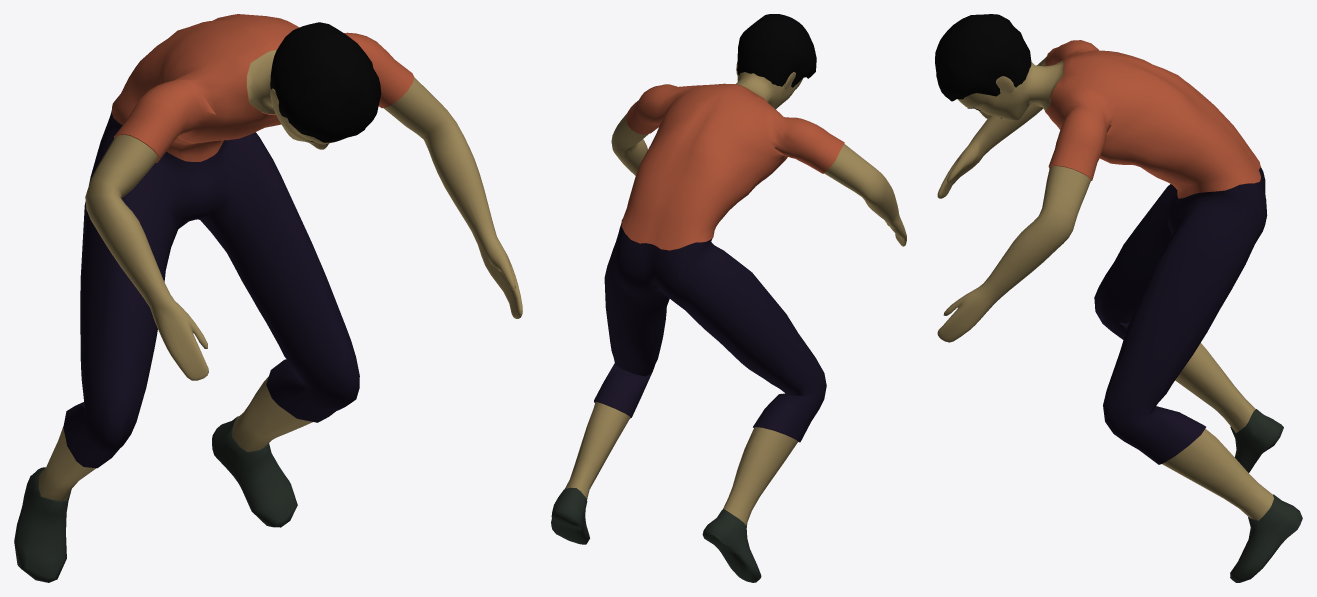
File: Male_Landing.glb
The picture shows the model from 3 angles, left to right: view 1: azimuth 30°, elevation 25°; view 2: azimuth 150°, elevation 25°; view 3: azimuth 270°, elevation 25°; orthographic projection. The views are drawn at different scales.
Parts seen in each view (by area): view 1: Male-Landing; view 2: Male-Landing; view 3: Male-Landing.
Part boxes in pixels (<box>): Male-Landing: <box>14,14,522,582</box>; Male-Landing: <box>551,14,906,582</box>; Male-Landing: <box>935,14,1302,582</box>.
Size of the model in its own units: 0.7552 by 1.24 by 0.7972.
